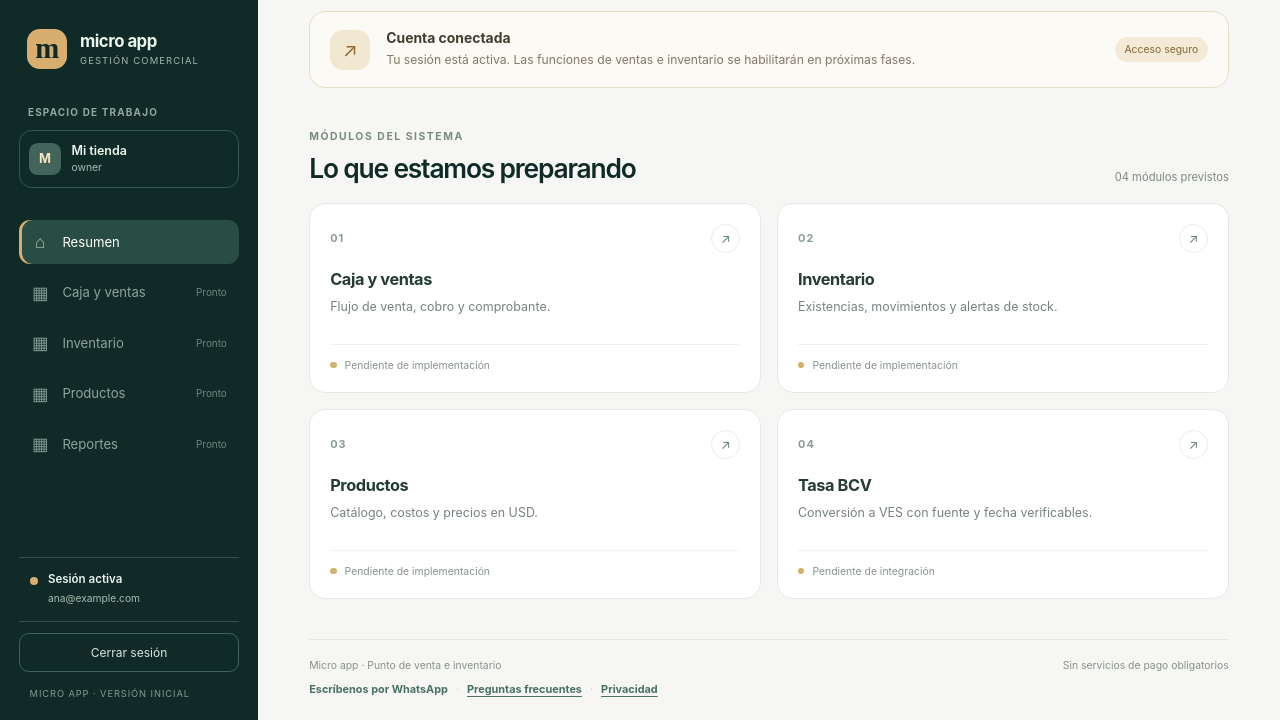
Micro app authentication flow › shows help links (WhatsApp support, FAQ, privacy) on the authenticated dashboard footer
(page scrolled)
Click the button "Preguntas frecuentes".
click(524, 688)  # box [467,682,582,696]
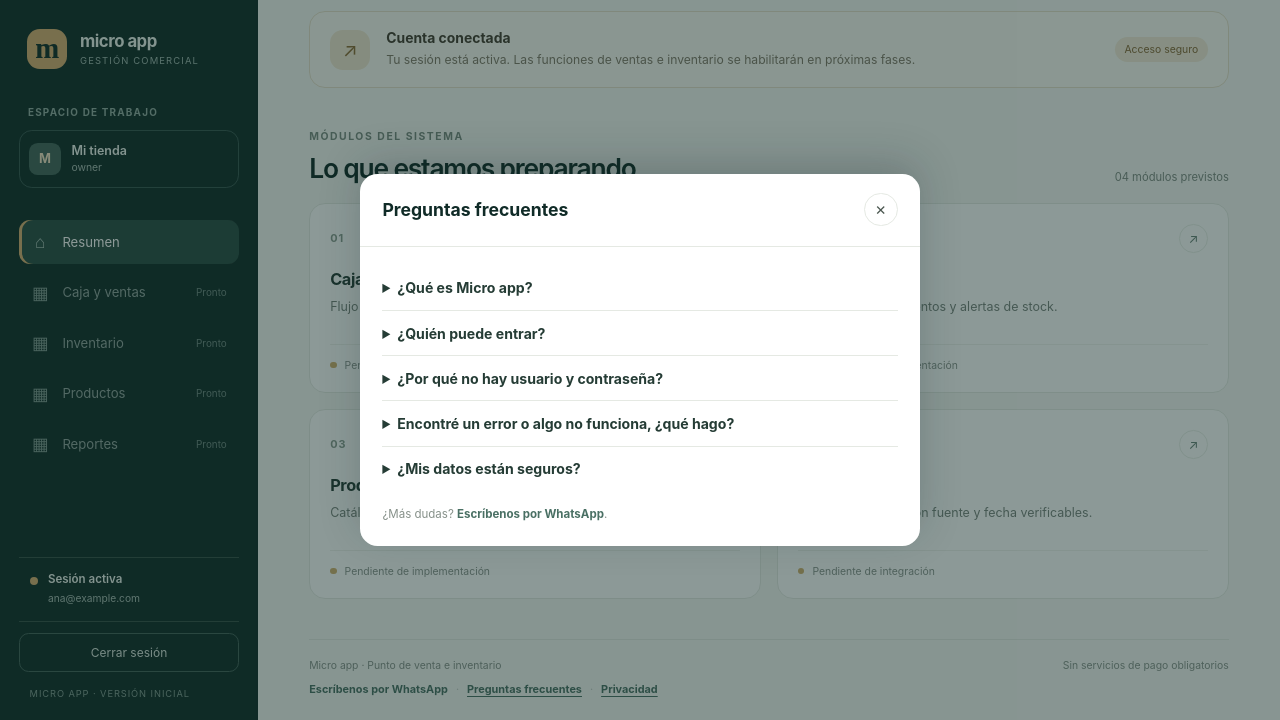
Now the dialog is shown, box [360,174,920,546]
